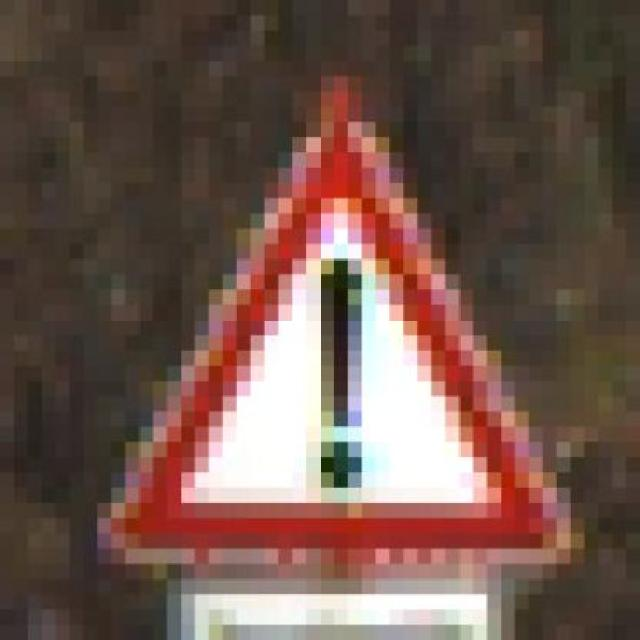Attention Please-: (70, 76, 598, 564)
